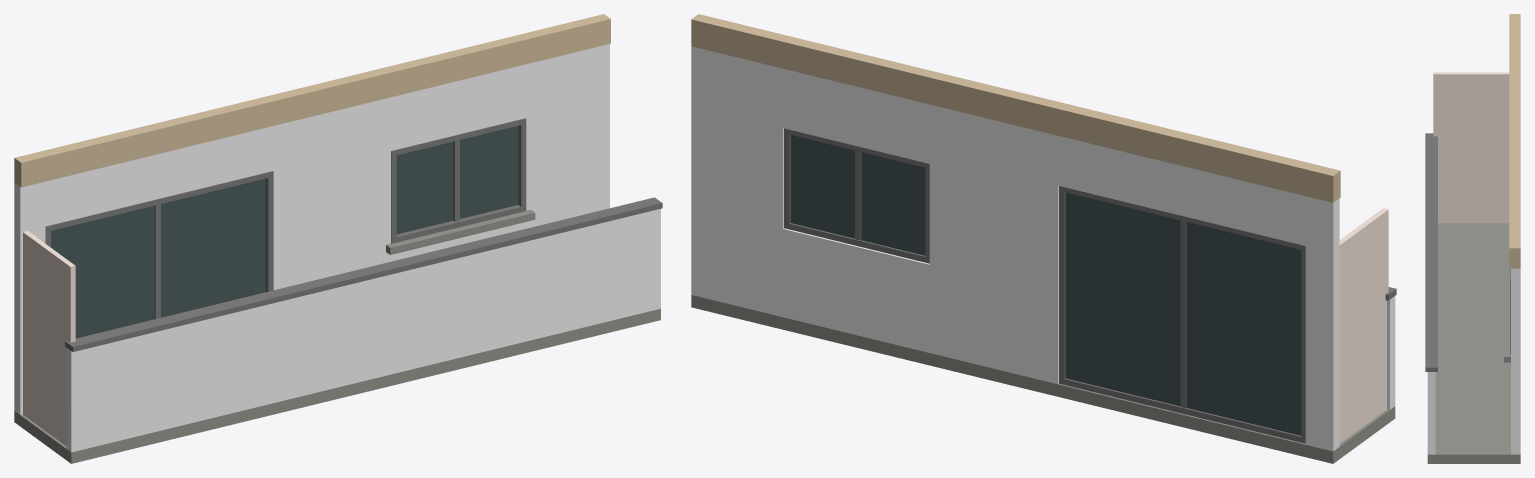
The model's file is mid-w1.fbx.
3 views of the same model, side by side, from view 1: azimuth 30°, elevation 25°; view 2: azimuth 150°, elevation 25°; view 3: azimuth 270°, elevation 25° (orthographic). The views are drawn at different scales.
Parts seen in each view (by area): view 1: a2001_700_mid-w1; view 2: a2001_700_mid-w1; view 3: a2001_700_mid-w1.
Boxes of the visible parts, x1,y1,x2,y2 form: a2001_700_mid-w1: [14, 14, 662, 463]; a2001_700_mid-w1: [691, 14, 1396, 463]; a2001_700_mid-w1: [1425, 14, 1520, 463].
Size of the model in its own units: 7 by 3 by 1.2.
